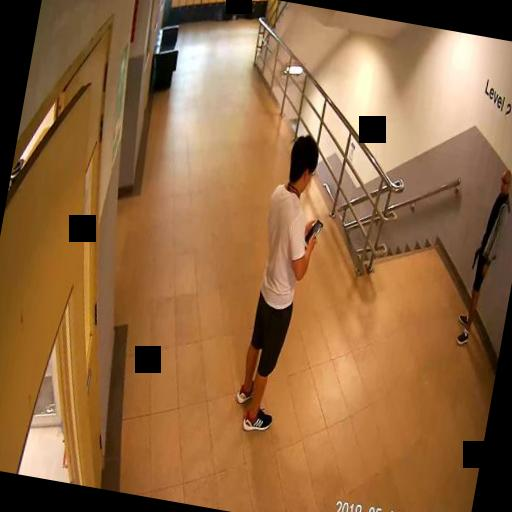Handgun: (470, 244, 480, 268)
